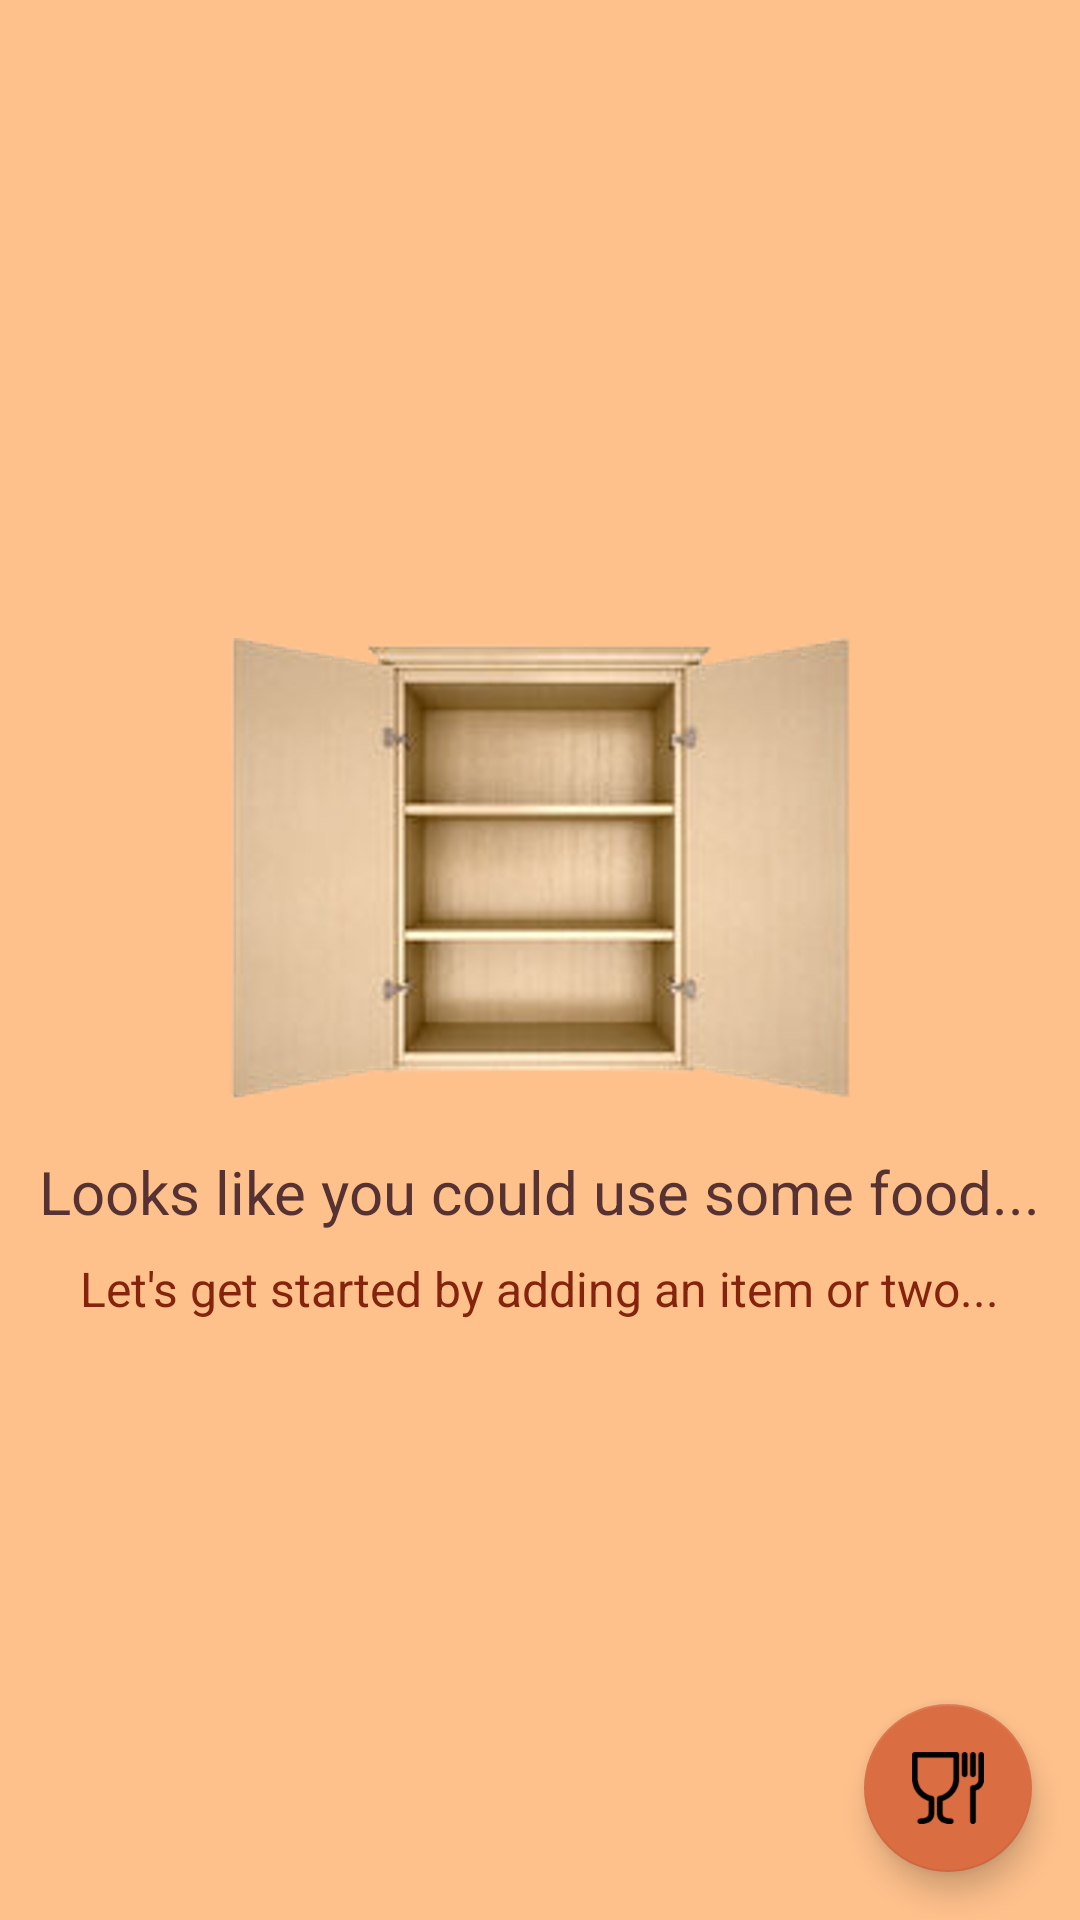

Where to tap for icons on this 1080*1920 app screen, as point (x, y):
food: point (948, 1788)
